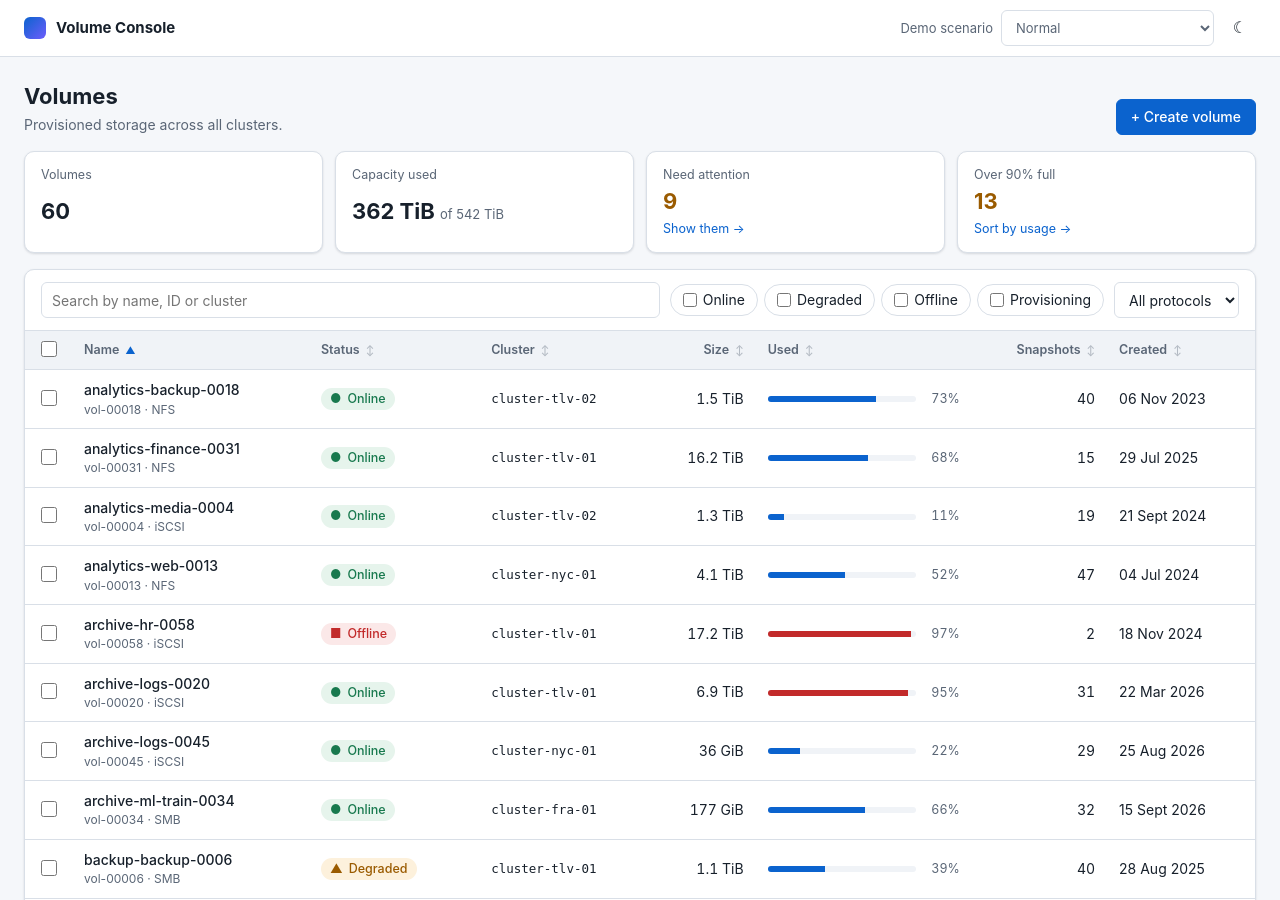
Test: Volume Console › sorts when a column header is clicked and exposes aria-sort
Click the button "Size ↕" at [703, 350], box [662, 331, 744, 369]
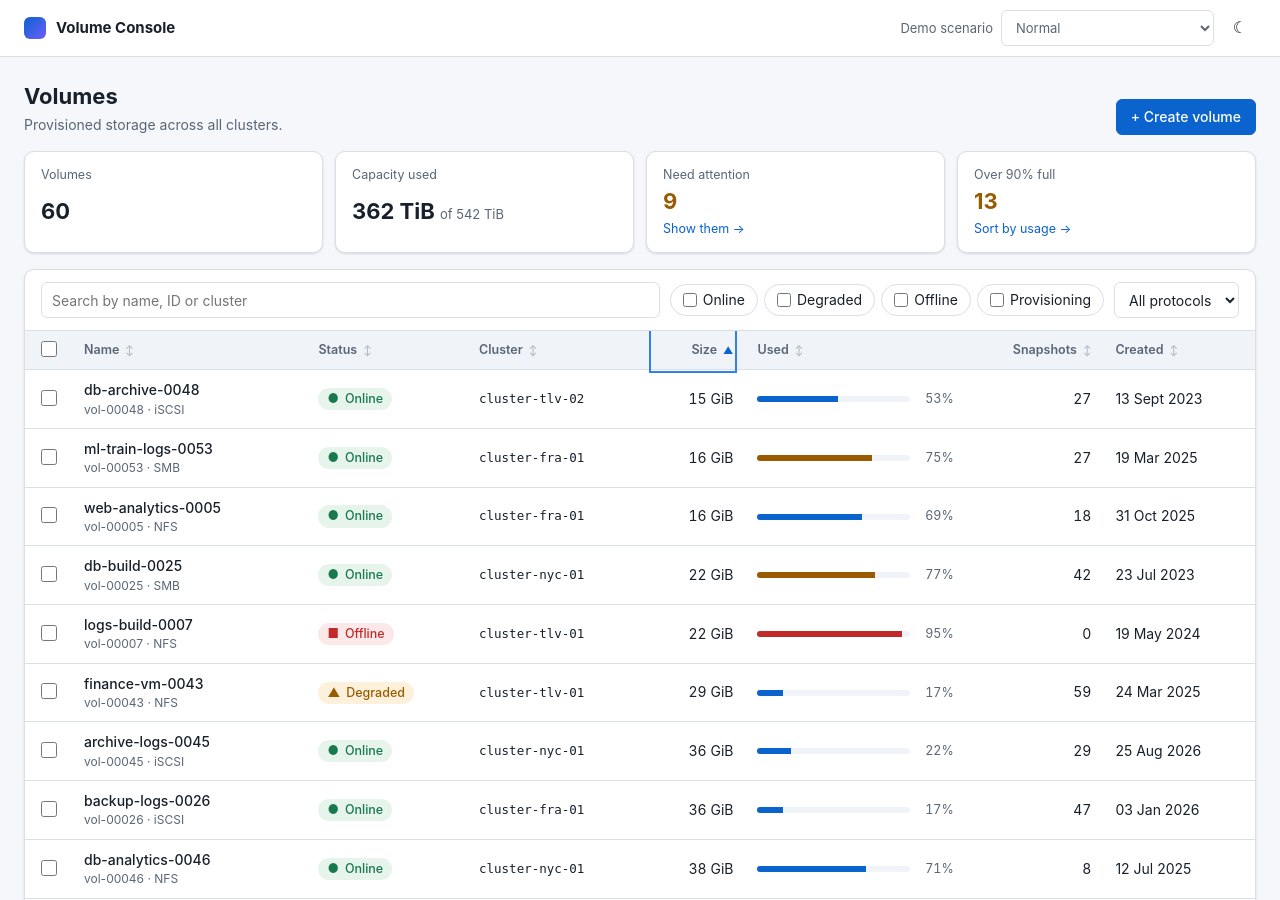
Result: the column heading "Size ▲" has attribute aria-sort="ascending" at [641, 331, 745, 370]
Click the button "Size ▲" at [693, 350], box [653, 331, 733, 369]
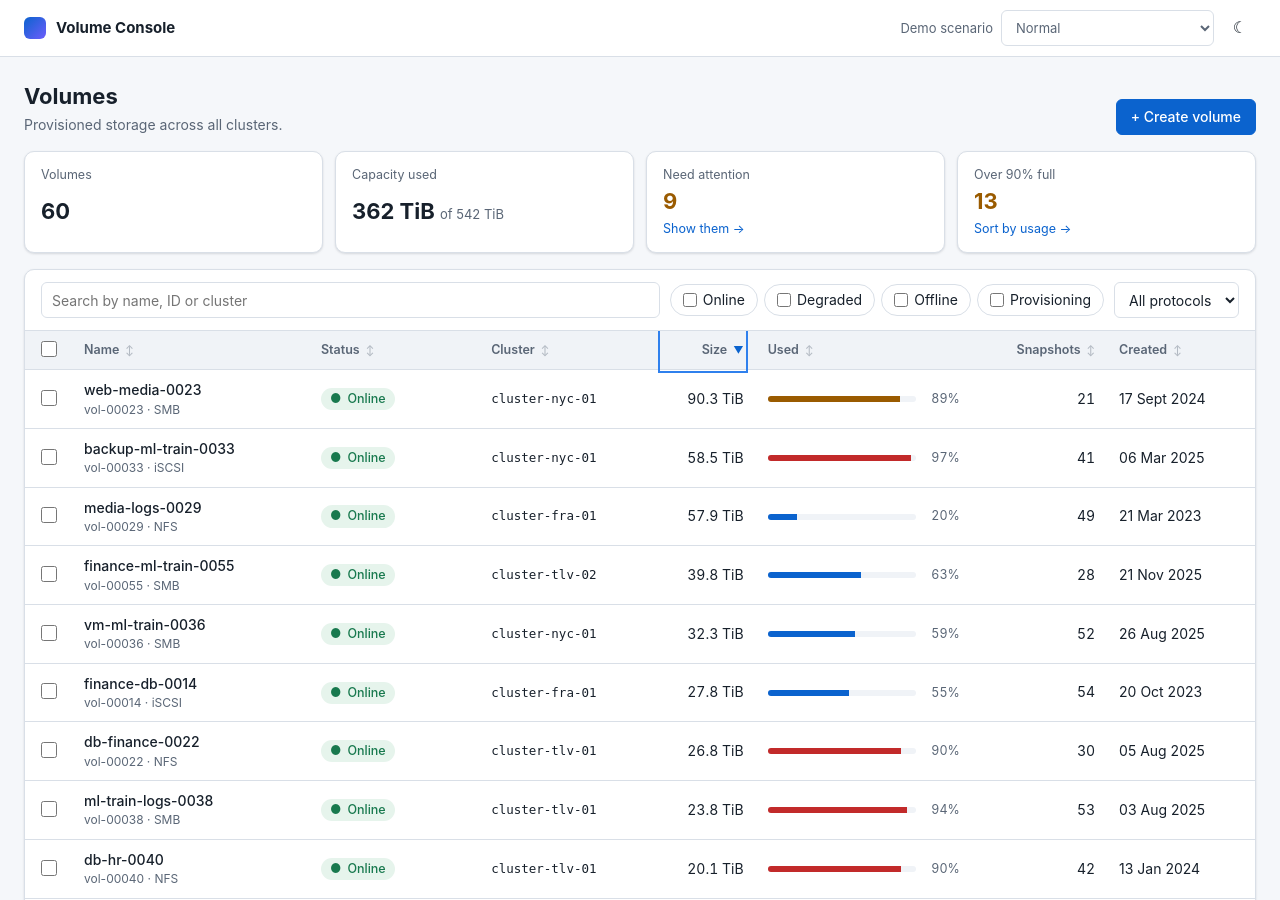
Result: the column heading "Size ▼" has attribute aria-sort="descending" at [650, 331, 756, 370]
